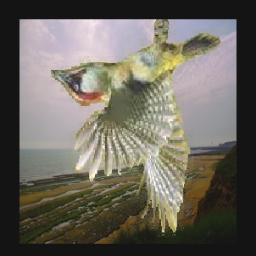Woodpecker: (49, 19, 223, 237)
